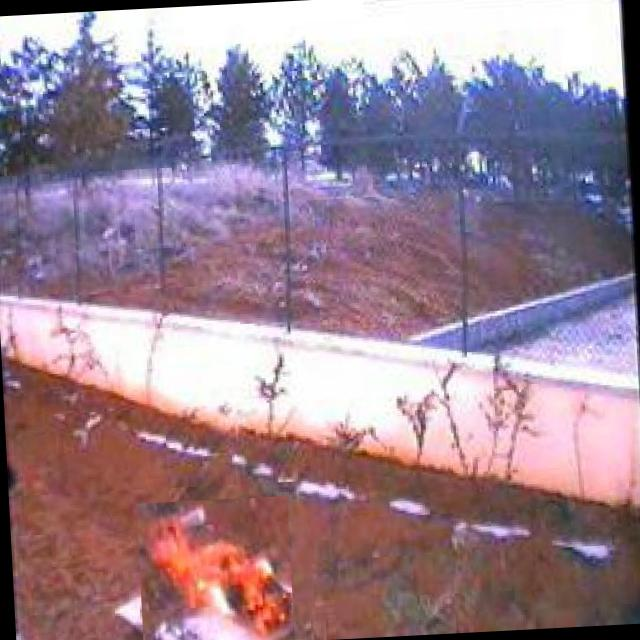fire: (136, 496, 294, 640)
